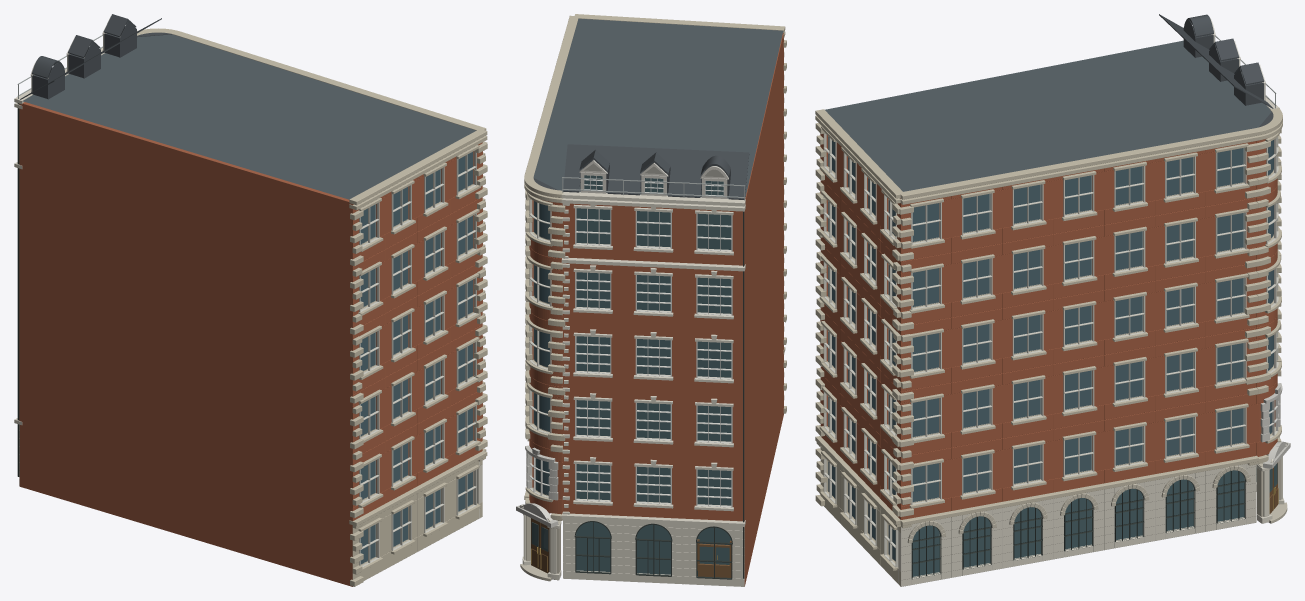
File: 51l-exterior-515b5e168be6.glb
3 views of the same model, side by side, from view 1: azimuth 30°, elevation 25°; view 2: azimuth 150°, elevation 25°; view 3: azimuth 270°, elevation 25° (orthographic).
Visible parts, largest first — view 1: 51L.001; view 2: 51L.001; view 3: 51L.001.
Boxes of the visible parts, left/top/right/bottom form: 51L.001: left=14, top=14, right=487, bottom=586; 51L.001: left=516, top=14, right=786, bottom=586; 51L.001: left=815, top=14, right=1290, bottom=586.
Size of the model in its own units: 18.34 by 22.82 by 22.96.
